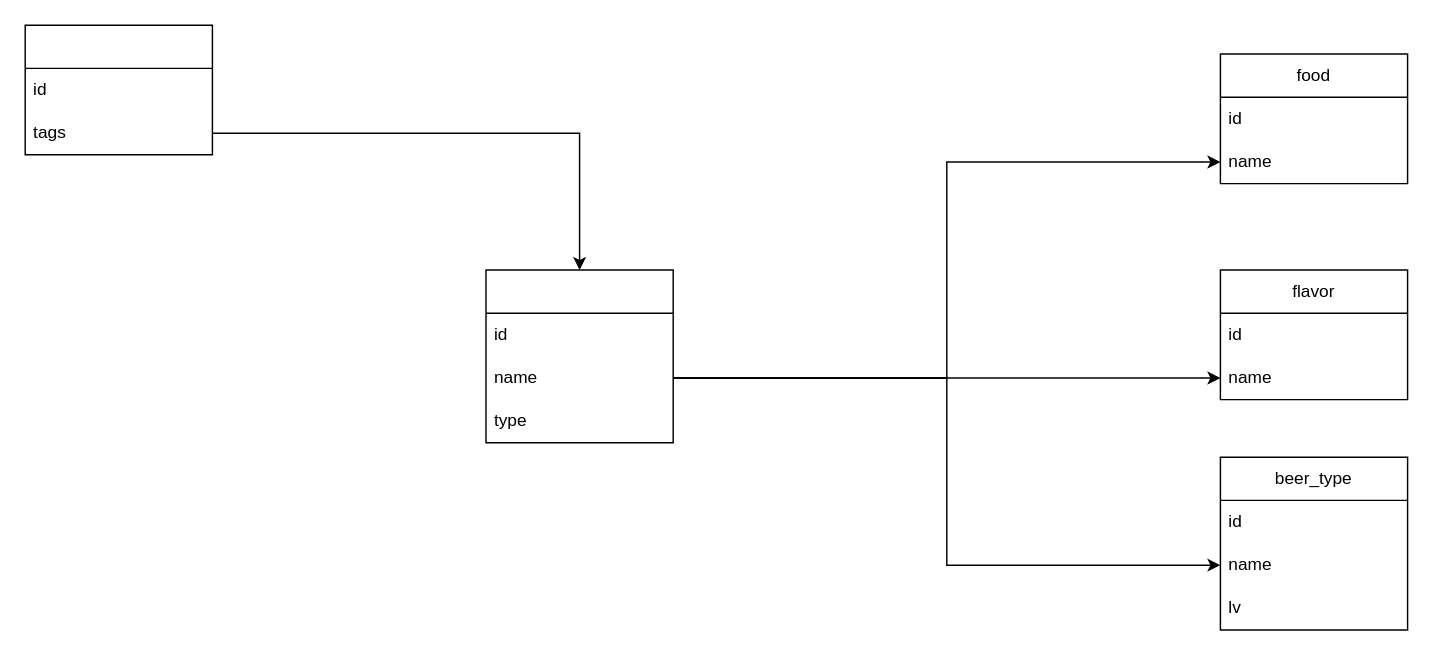
The diagram is 1433 pixels wide and 655 high, and some of its shapes have lost their labels. The box of each missing label's shape, as (x1, y1, x2, y2) in pixels:
beer: (24, 24, 212, 155)
tag: (485, 269, 673, 443)
